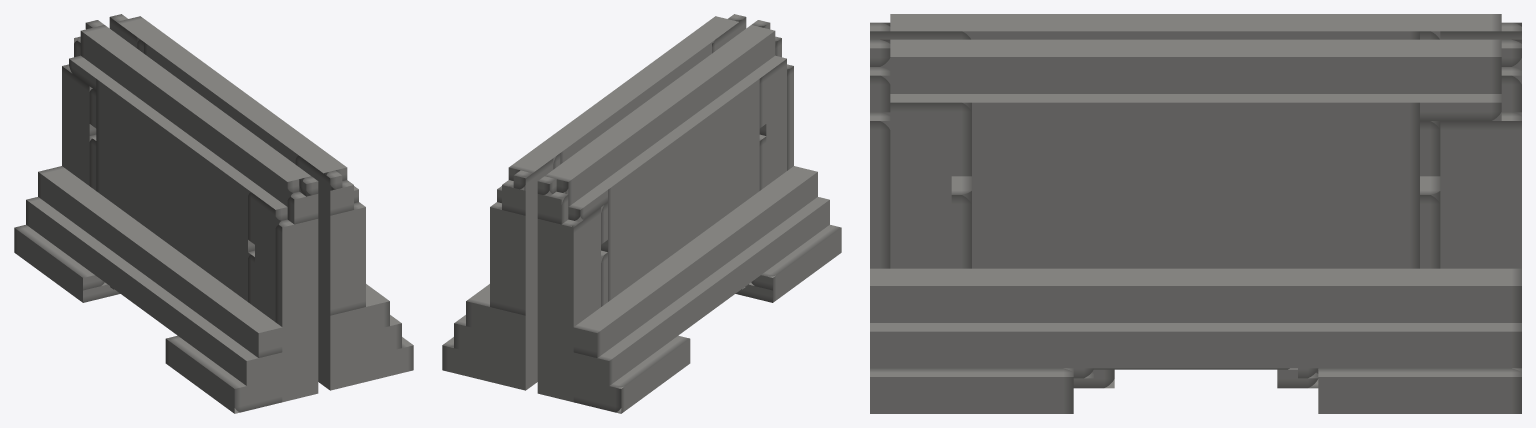
Rendered from bolkada_non_kolor_rozlac.dae.
3 views of the same model, side by side, from view 1: azimuth 30°, elevation 25°; view 2: azimuth 150°, elevation 25°; view 3: azimuth 270°, elevation 25° (orthographic). The views are drawn at different scales.
Visible parts, largest first — view 1: Content; view 2: Content; view 3: Content.
Part boxes in pixels (bbox=[...]): Content: bbox=[14, 14, 413, 413]; Content: bbox=[442, 14, 841, 413]; Content: bbox=[870, 14, 1521, 413].
Bounding box in the file's own units: 15 × 17 × 32.
Materials: 1 (1 with a texture image).
